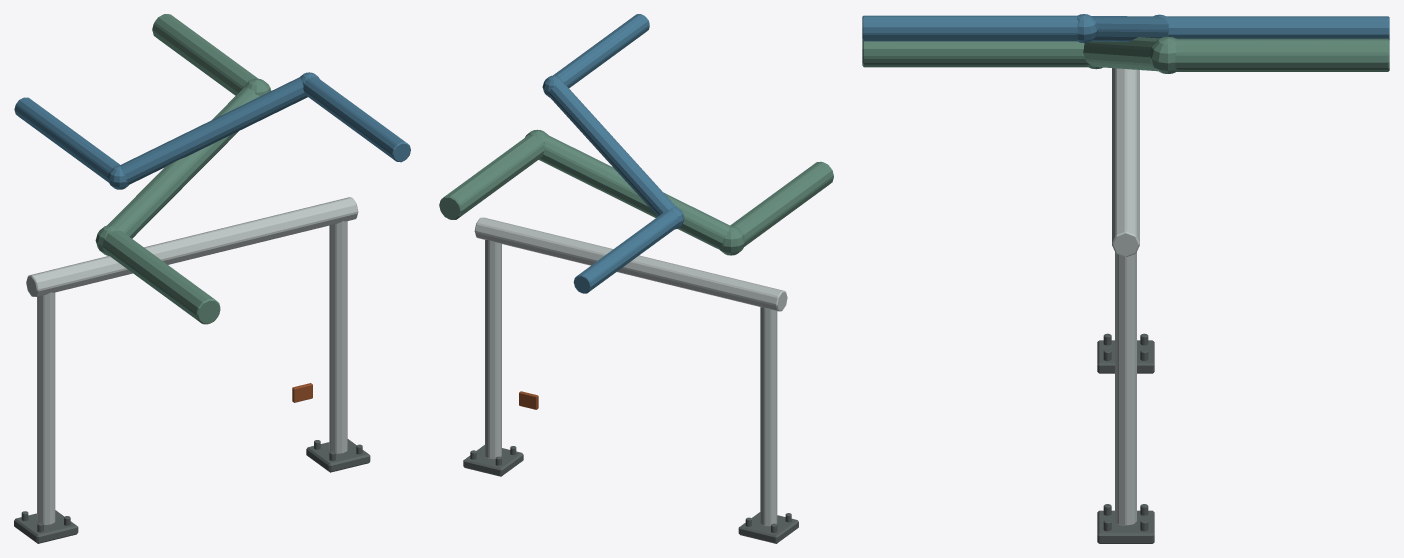
Rendered from runtime.glb.
3 views of the same model, side by side, from view 1: azimuth 30°, elevation 25°; view 2: azimuth 150°, elevation 25°; view 3: azimuth 270°, elevation 25° (orthographic). The views are drawn at different scales.
Parts seen in each view (by area): view 1: reactor-pipe-support-v08_nocol; view 2: reactor-pipe-support-v08_nocol; view 3: reactor-pipe-support-v08_nocol.
Boxes of the visible parts, box(x1,y1,x2,y2) form: reactor-pipe-support-v08_nocol: box(14, 14, 410, 543); reactor-pipe-support-v08_nocol: box(439, 14, 833, 543); reactor-pipe-support-v08_nocol: box(862, 14, 1389, 543).
Bounding box in the file's own units: 3.84 × 4.51 × 4.4.
